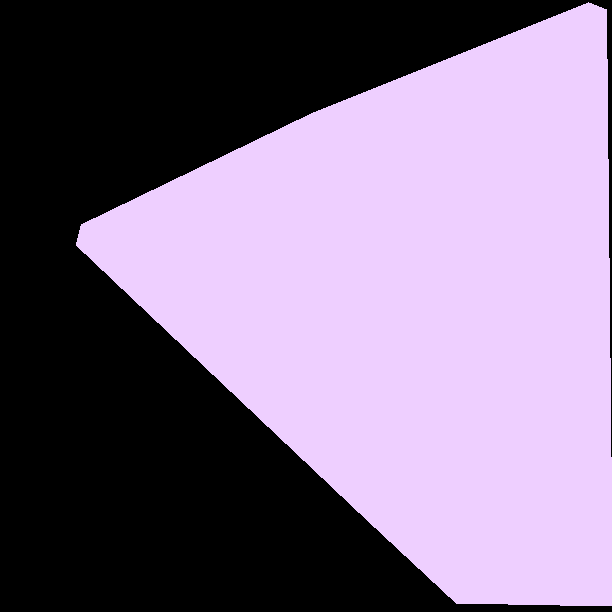Train: (76, 2, 612, 606)
